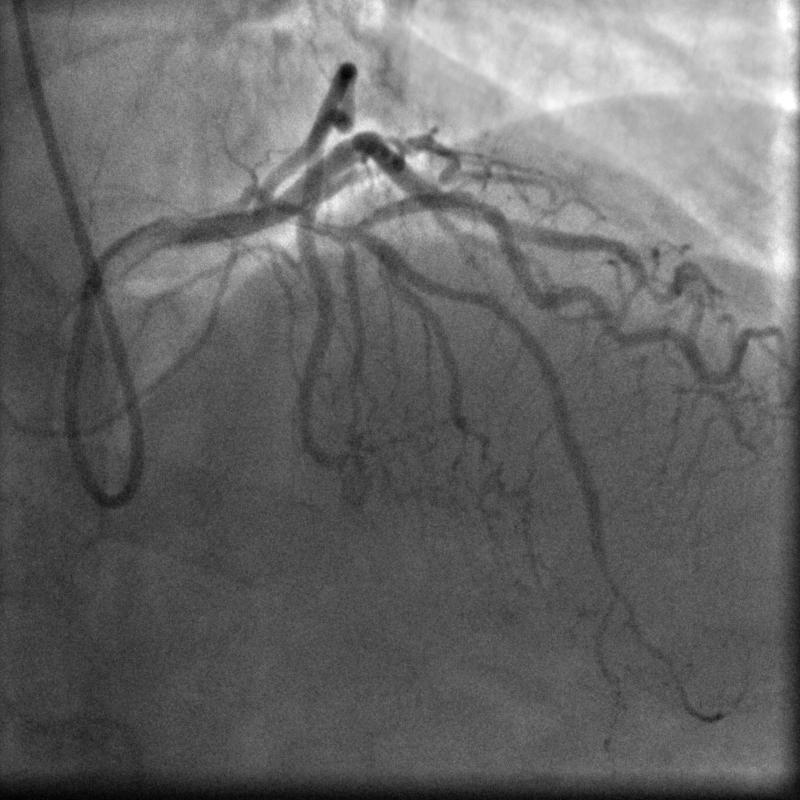Stenosis: (455, 189, 504, 226)
